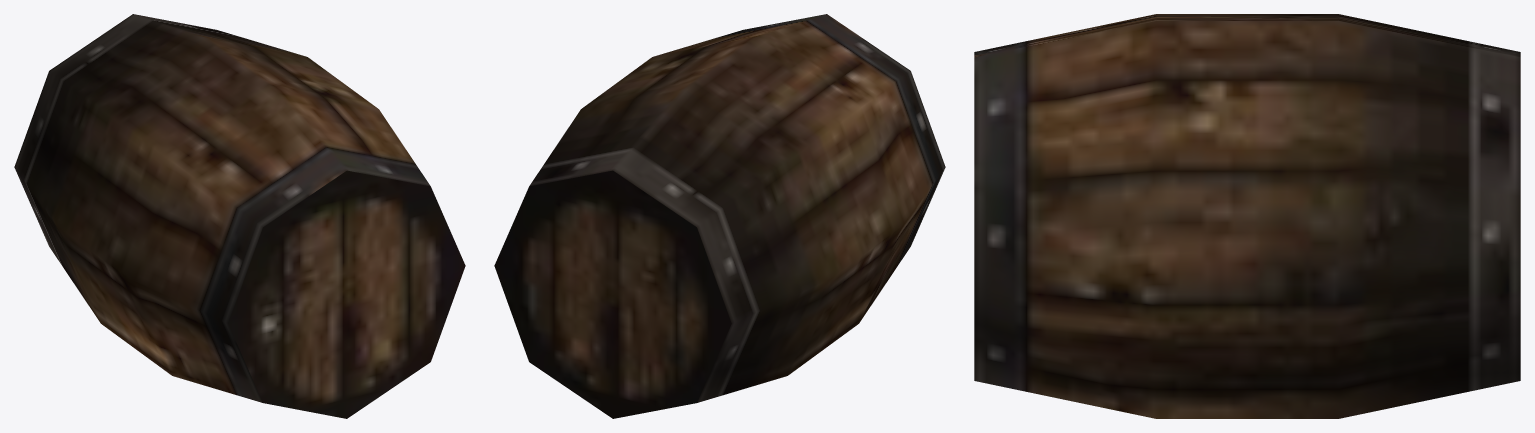
File: TreasureDrum01.glb
3 views of the same model, side by side, from view 1: azimuth 30°, elevation 25°; view 2: azimuth 150°, elevation 25°; view 3: azimuth 270°, elevation 25° (orthographic). The views are drawn at different scales.
Visible parts, largest first — view 1: model_TreasureDrum01; view 2: model_TreasureDrum01; view 3: model_TreasureDrum01.
Boxes of the visible parts, x1,y1,x2,y2 form: model_TreasureDrum01: (14,14,465,418); model_TreasureDrum01: (494,14,945,418); model_TreasureDrum01: (974,14,1520,418).
Size of the model in its own units: 0.8127 by 0.8127 by 1.03.
1 material, 1 textured.
